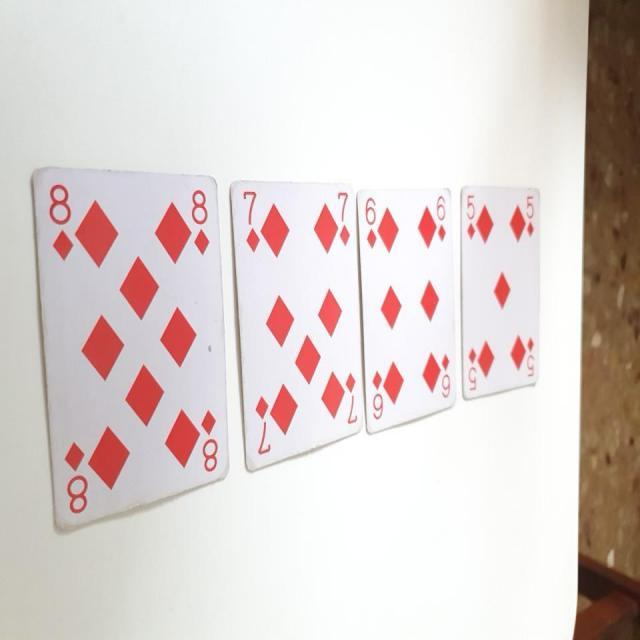5 of diamonds: (459, 182, 544, 402)
6 of diamonds: (356, 188, 458, 438)
7 of diamonds: (230, 180, 366, 478)
8 of diamonds: (31, 166, 230, 532)
